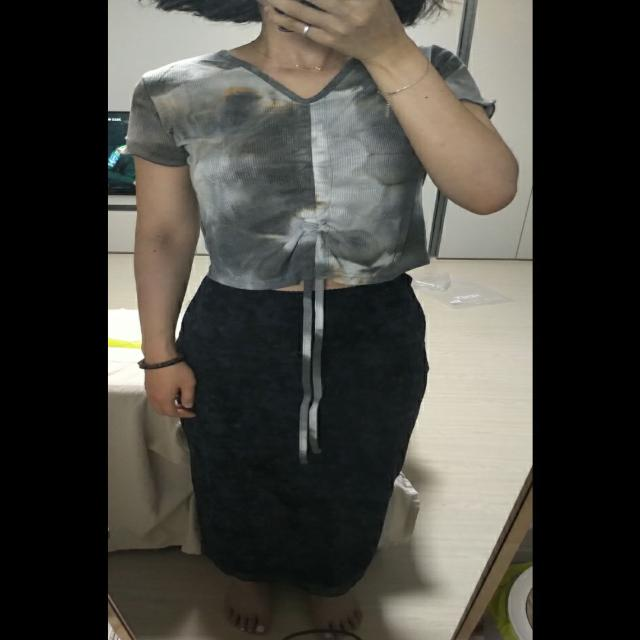shortsleeve: (128, 40, 498, 287)
skirt: (182, 270, 424, 594)
